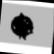correct: (9, 10, 35, 41)
